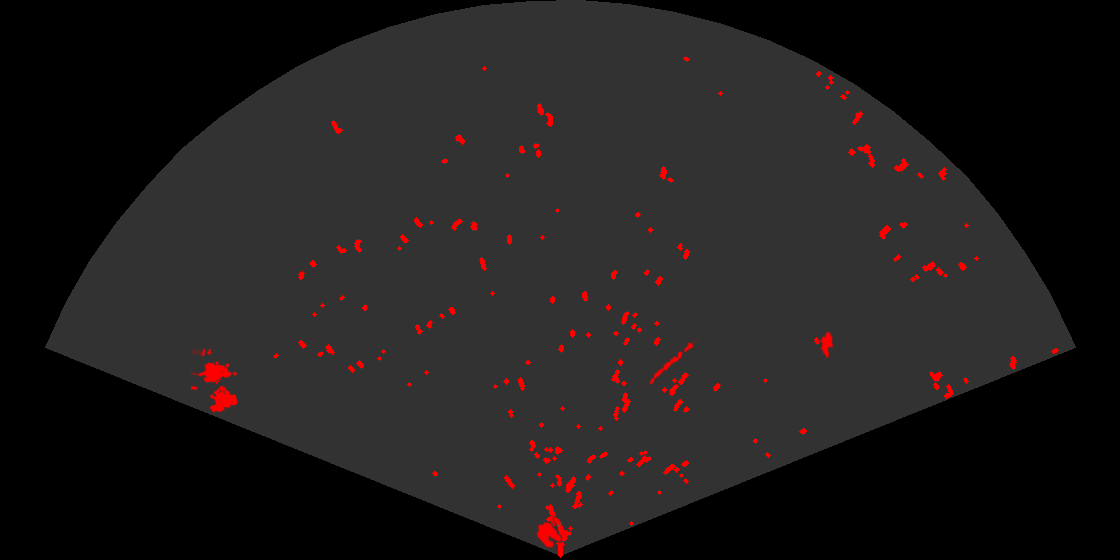AUV: (818, 330, 835, 360)
ball: (535, 515, 563, 549)
cage: (191, 349, 240, 415)
chain: (644, 336, 698, 387)
